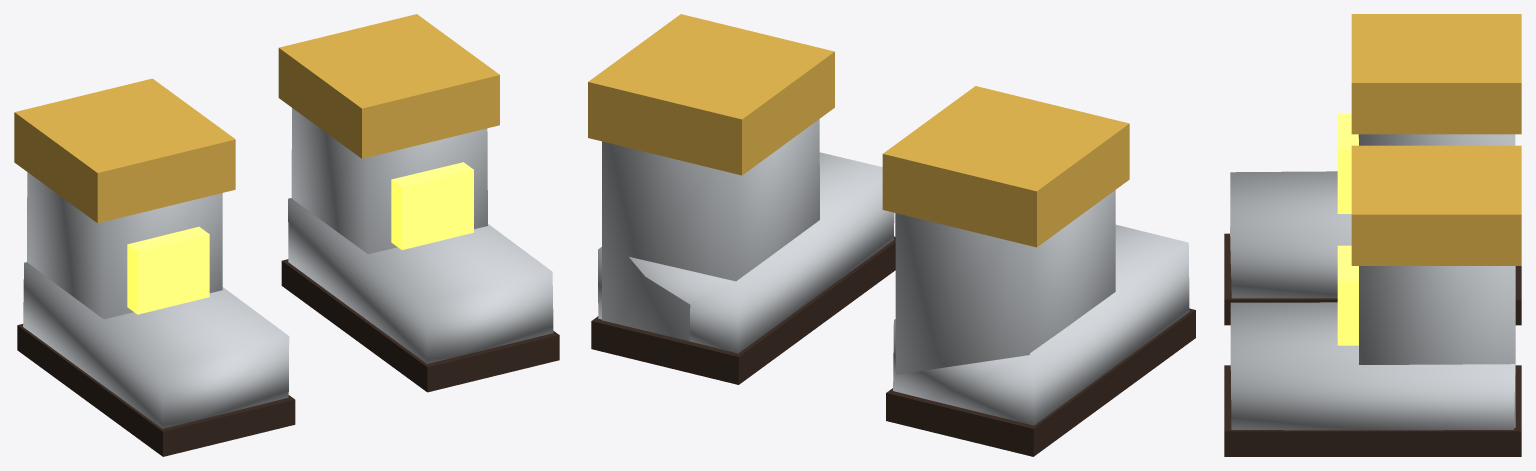
The model's file is boots_t3.glb.
3 views of the same model, side by side, from view 1: azimuth 30°, elevation 25°; view 2: azimuth 150°, elevation 25°; view 3: azimuth 270°, elevation 25° (orthographic). The views are drawn at different scales.
Visible parts, largest first — view 1: sideR_metal3, sideL_metal3, sideR_trim3, sideL_trim3, sideL_sole, sideR_sole, sideL_gem3, sideR_gem3; view 2: sideR_metal3, sideL_metal3, sideR_trim3, sideL_trim3, sideR_sole, sideL_sole; view 3: sideL_metal3, sideR_trim3, sideL_trim3, sideR_metal3, sideL_sole, sideL_gem3, sideR_sole, sideR_gem3.
Boxes of the visible parts, x1=… form: sideR_metal3: x1=23, y1=172, x2=289, y2=428; sideL_metal3: x1=288, y1=108, x2=553, y2=363; sideR_trim3: x1=14, y1=78, x2=235, y2=223; sideL_trim3: x1=278, y1=14, x2=499, y2=158; sideL_sole: x1=281, y1=259, x2=559, y2=392; sideR_sole: x1=17, y1=324, x2=295, y2=456; sideL_gem3: x1=391, y1=162, x2=473, y2=249; sideR_gem3: x1=127, y1=226, x2=209, y2=314; sideR_metal3: x1=893, y1=190, x2=1189, y2=425; sideL_metal3: x1=598, y1=119, x2=894, y2=353; sideR_trim3: x1=882, y1=86, x2=1129, y2=247; sideL_trim3: x1=588, y1=14, x2=834, y2=175; sideR_sole: x1=886, y1=308, x2=1195, y2=456; sideL_sole: x1=591, y1=236, x2=895, y2=384; sideL_metal3: x1=1230, y1=266, x2=1515, y2=430; sideR_trim3: x1=1351, y1=14, x2=1521, y2=134; sideL_trim3: x1=1351, y1=145, x2=1521, y2=265; sideR_metal3: x1=1230, y1=134, x2=1515, y2=298; sideL_sole: x1=1224, y1=365, x2=1521, y2=456; sideL_gem3: x1=1337, y1=245, x2=1358, y2=345; sideR_sole: x1=1224, y1=233, x2=1521, y2=325; sideR_gem3: x1=1337, y1=114, x2=1358, y2=213.
Size of the model in its own units: 0.335 by 0.1908 by 0.21.
